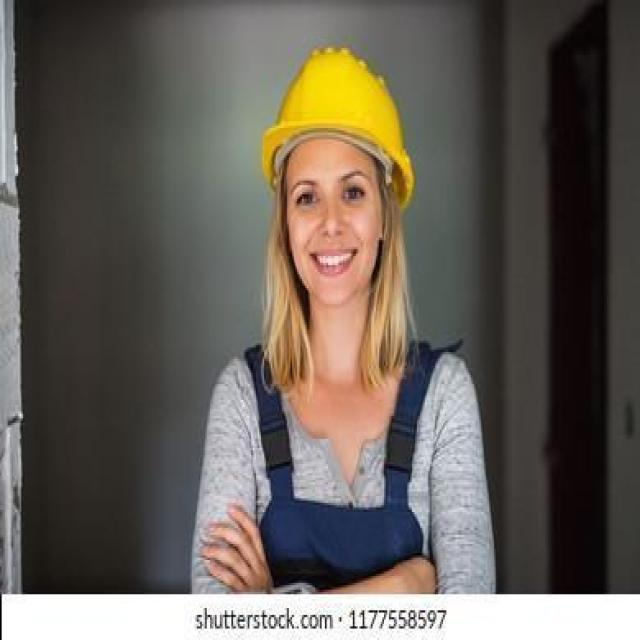helmet: (261, 48, 413, 206)
